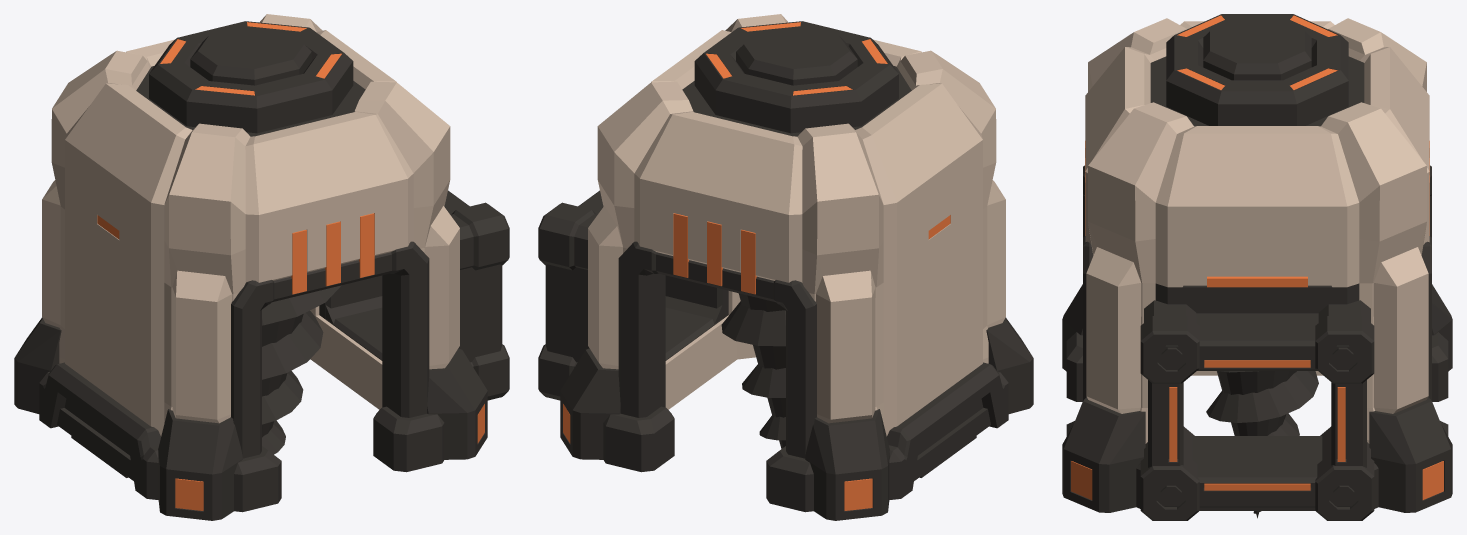
The model's file is Miner.fbx.
3 views of the same model, side by side, from view 1: azimuth 30°, elevation 25°; view 2: azimuth 150°, elevation 25°; view 3: azimuth 270°, elevation 25° (orthographic). The views are drawn at different scales.
Visible parts, largest first — view 1: Body, Base, Head, Port, Drill, Light; view 2: Body, Base, Head, Port, Drill, Light; view 3: Body, Port, Base, Head, Light, Drill.
Part boxes in pixels (x1=…): Body: x1=42, y1=14, x2=459, y2=436; Base: x1=14, y1=241, x2=487, y2=520; Head: x1=136, y1=21, x2=365, y2=136; Port: x1=319, y1=190, x2=509, y2=400; Drill: x1=262, y1=285, x2=341, y2=454; Light: x1=97, y1=22, x2=484, y2=510; Body: x1=588, y1=14, x2=1005, y2=436; Base: x1=560, y1=241, x2=1033, y2=520; Head: x1=682, y1=21, x2=911, y2=136; Port: x1=538, y1=190, x2=728, y2=400; Drill: x1=721, y1=293, x2=785, y2=448; Light: x1=563, y1=22, x2=950, y2=510; Body: x1=1085, y1=18, x2=1429, y2=443; Port: x1=1140, y1=283, x2=1374, y2=520; Base: x1=1062, y1=165, x2=1452, y2=512; Head: x1=1150, y1=14, x2=1364, y2=126; Light: x1=1071, y1=15, x2=1443, y2=499; Drill: x1=1206, y1=371, x2=1318, y2=518.
Size of the model in its own units: 0.9067 by 1.08 by 0.8031.
